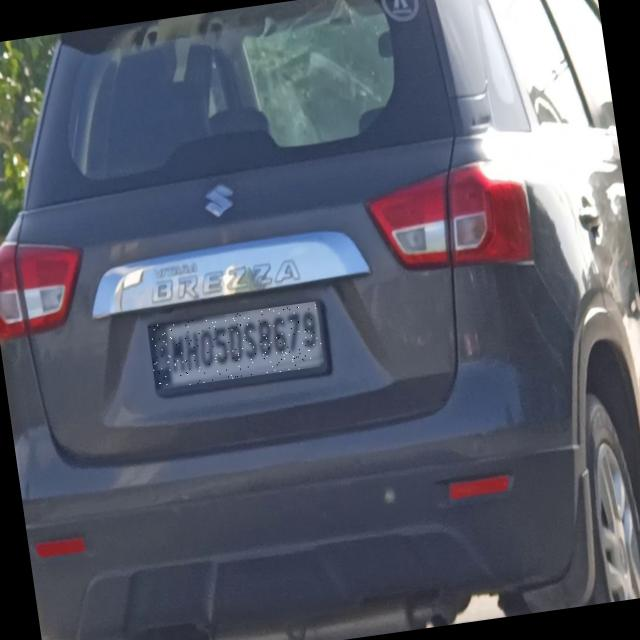Plate: (148, 303, 325, 391)
